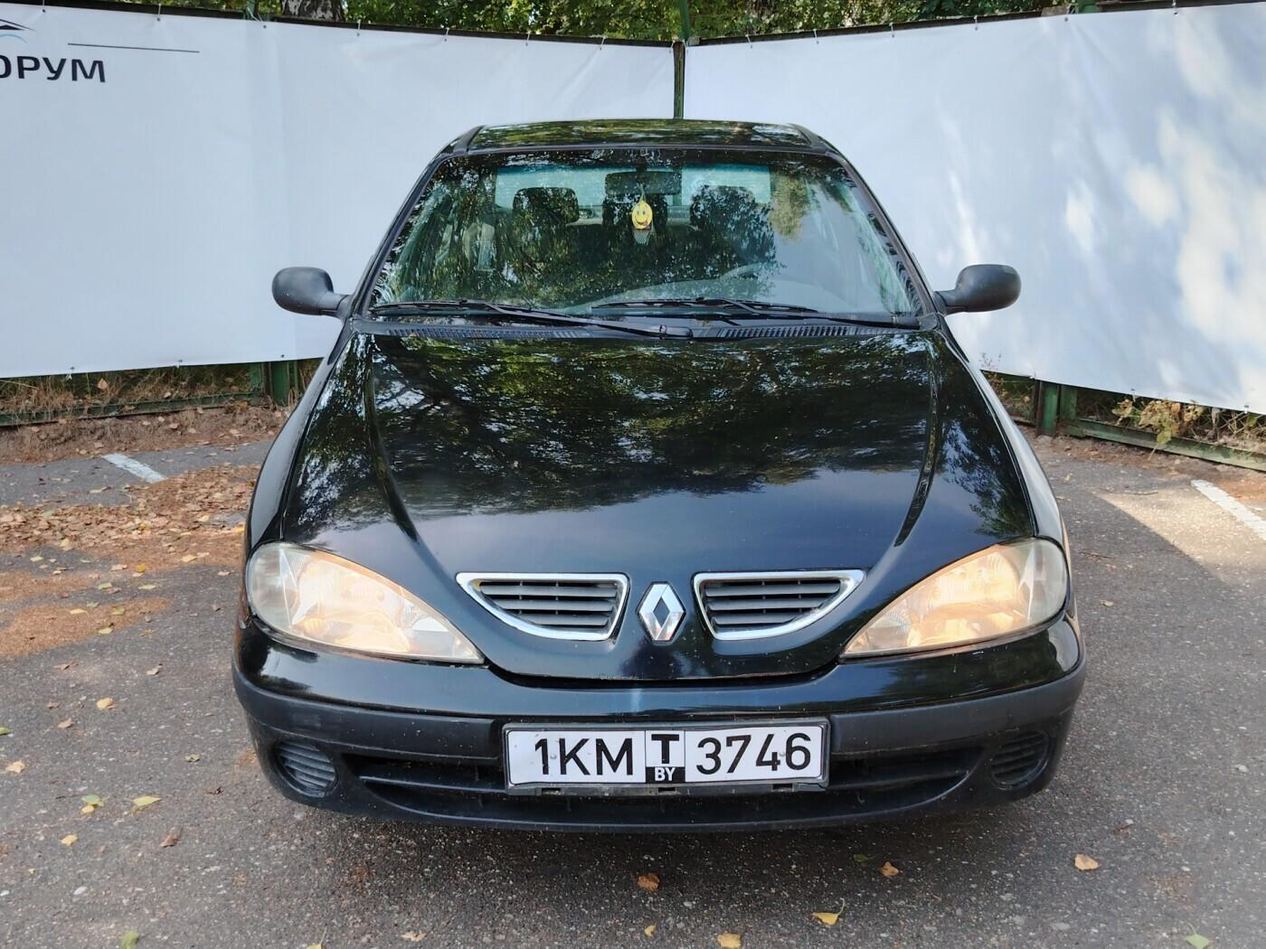Megane_1999-2003: (222, 120, 1092, 846)
